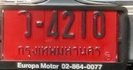txt32: (17, 10, 33, 39)
